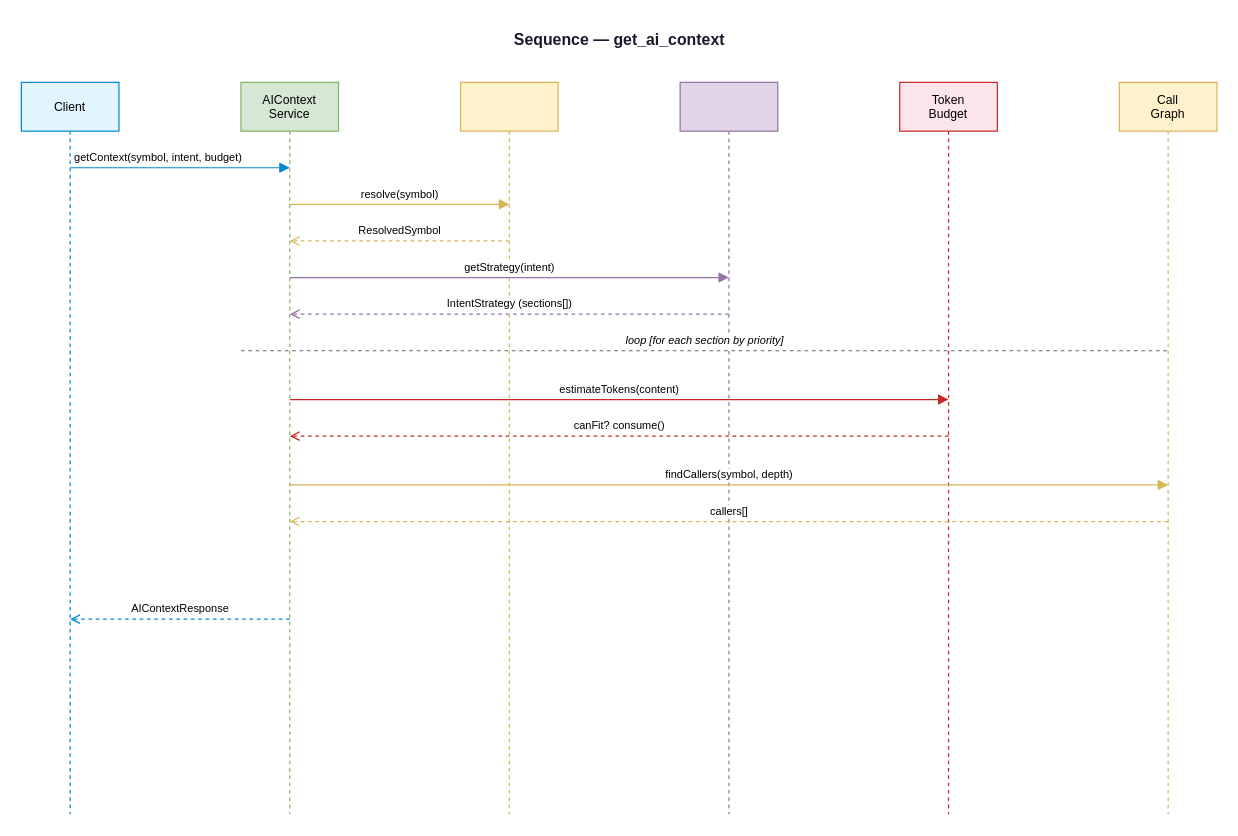
This 1238x836 diagram has some shape labels left out. The shapes that lost their labels are listed below. From the top down, each one's box as (x1, y1, x2, y2) in pixels, then its label:
(459, 81, 558, 814): Symbol Resolver
(679, 81, 778, 814): Intent Strategies
